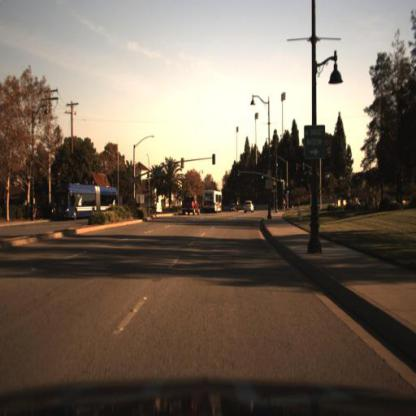car: (203, 189, 225, 219), (181, 194, 199, 218), (242, 198, 256, 216), (244, 197, 256, 215)
pedestrian: (284, 201, 286, 213)
truck: (49, 185, 120, 225), (201, 190, 225, 216)
